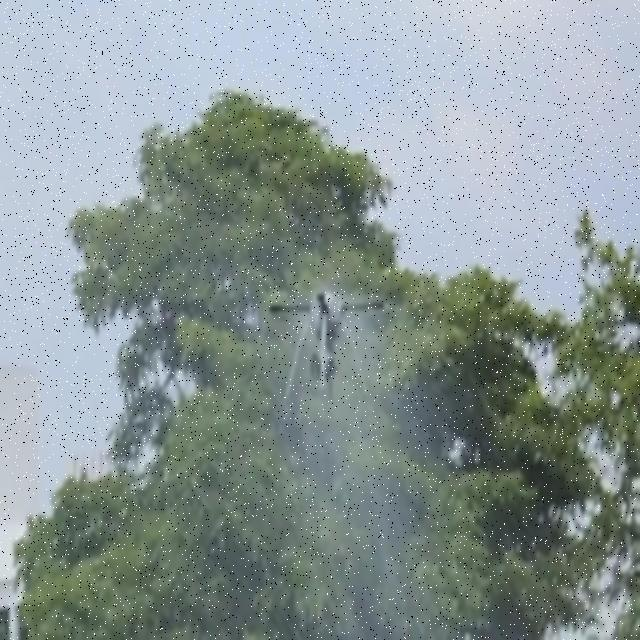UAV: (266, 286, 382, 410)
